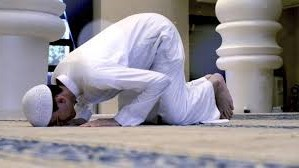sujud: (21, 11, 242, 132)
